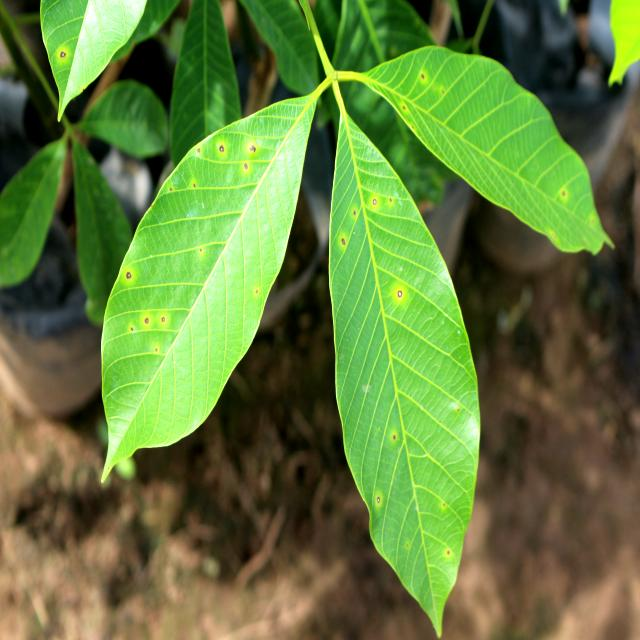Colletotrichum: (126, 272, 132, 279), (342, 238, 346, 246), (219, 146, 224, 152), (398, 291, 402, 297), (373, 199, 377, 205), (144, 317, 148, 323), (377, 497, 380, 503), (162, 317, 165, 322)
